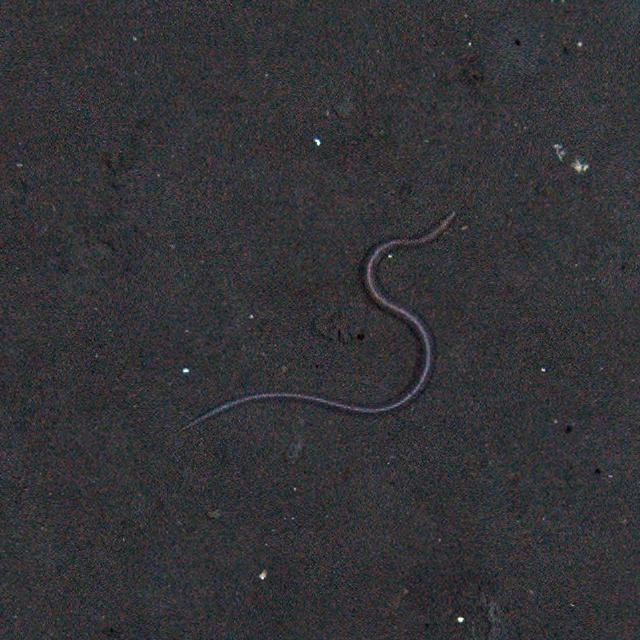eel: (181, 207, 457, 433)
